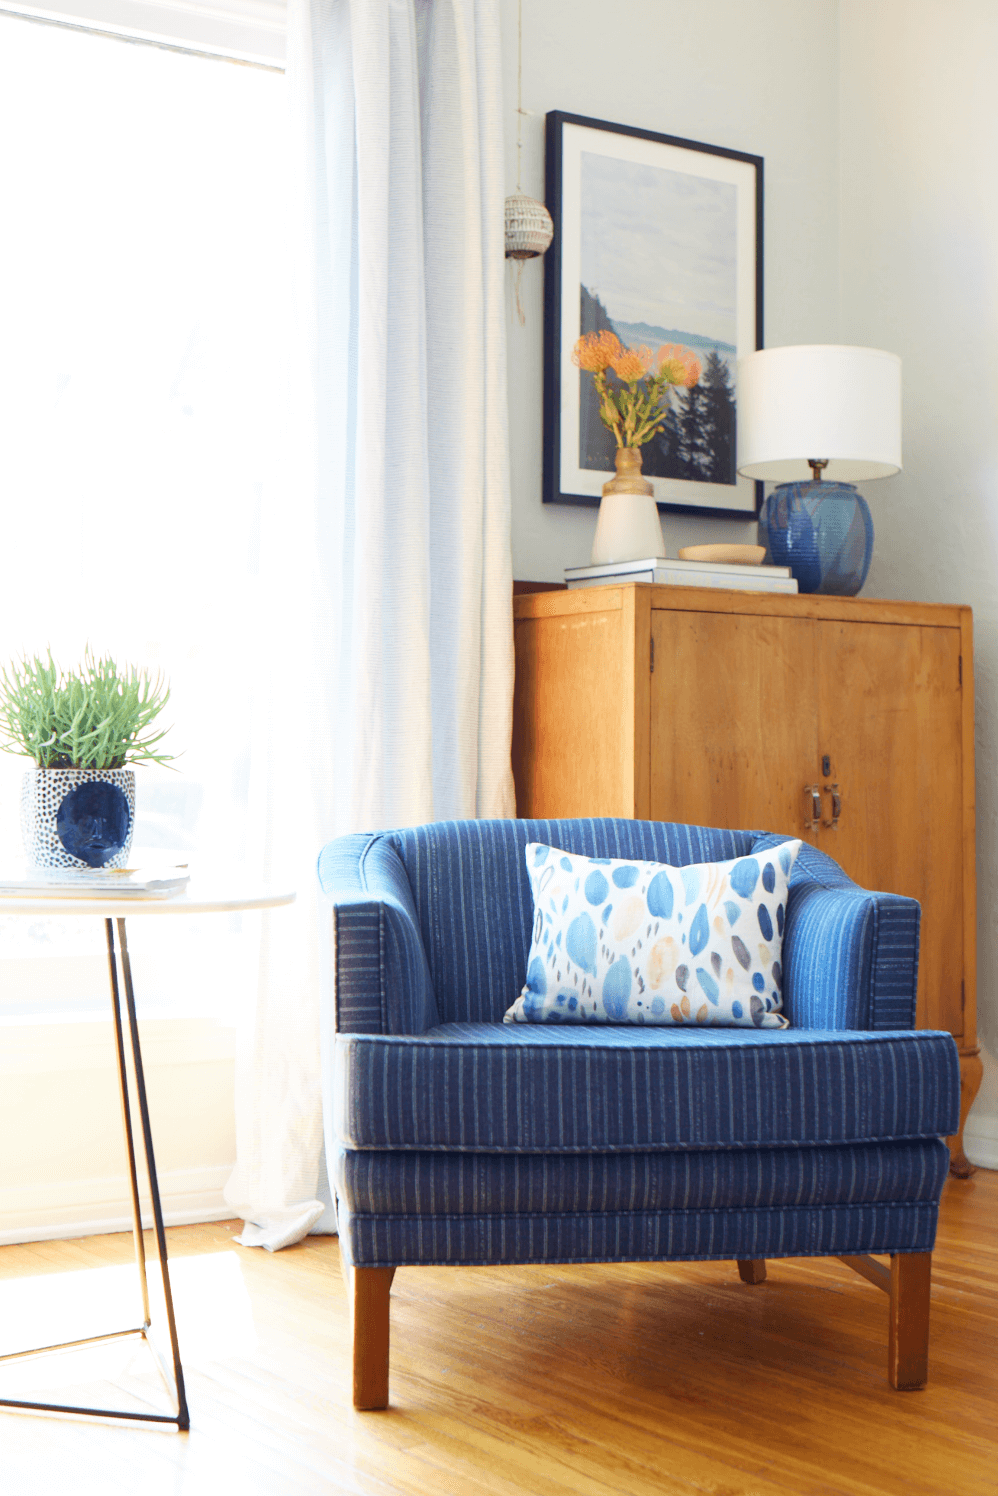chair: (315, 819, 958, 1425)
